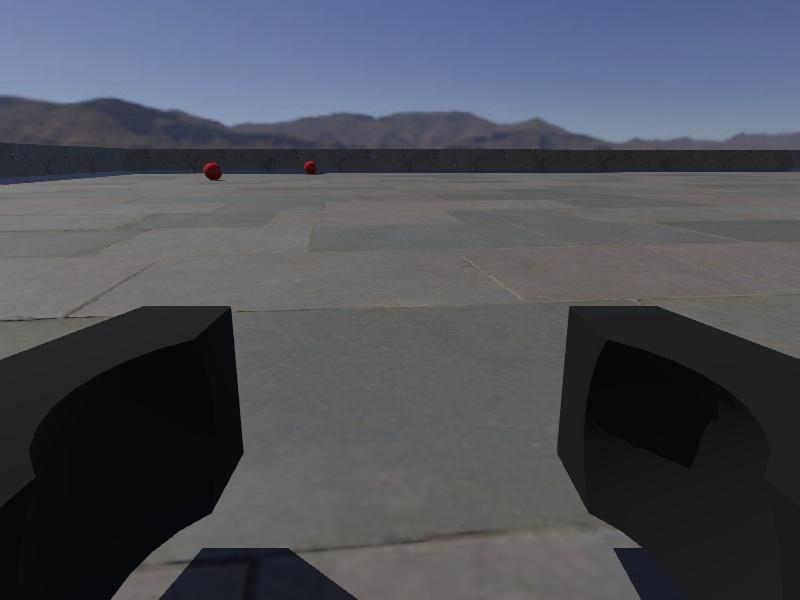red ball: (203, 161, 224, 181), (303, 159, 318, 175)
